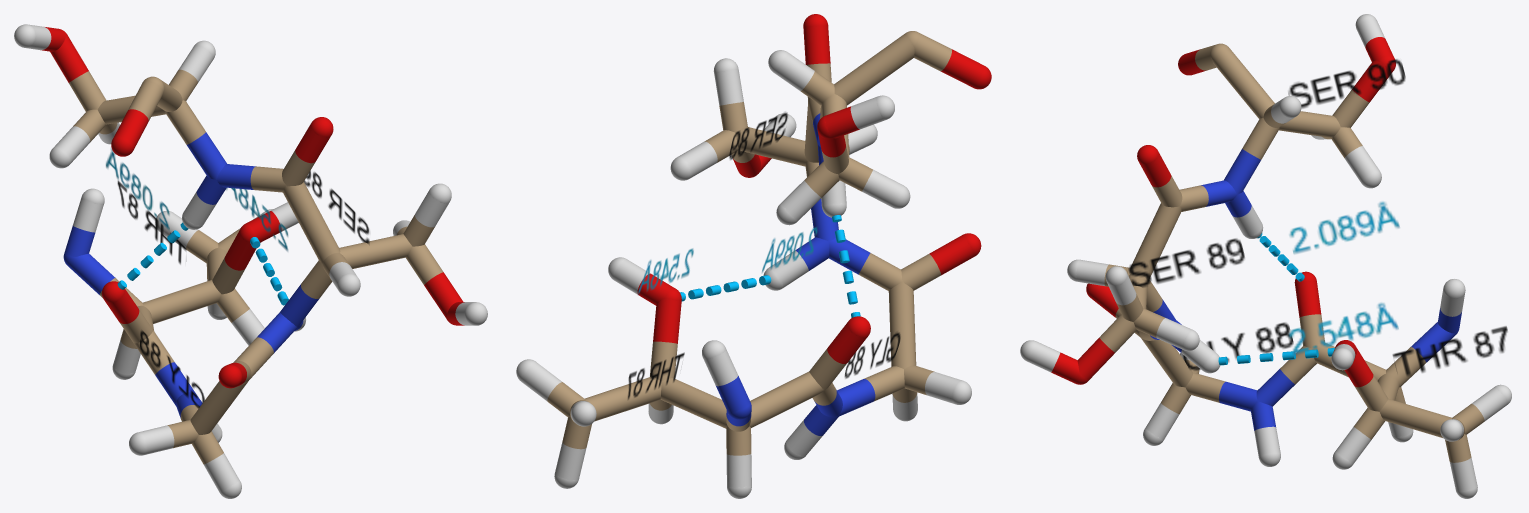
Rendered from 转角结构.glb.
3 views of the same model, side by side, from view 1: azimuth 30°, elevation 25°; view 2: azimuth 150°, elevation 25°; view 3: azimuth 270°, elevation 25° (orthographic). The views are drawn at different scales.
Parts seen in each view (by area): view 1: New_Node; view 2: New_Node; view 3: New_Node.
Part boxes in pixels (left/top/right/bottom): New_Node: left=14, top=24, right=487, bottom=498; New_Node: left=516, top=14, right=991, bottom=498; New_Node: left=1020, top=14, right=1511, bottom=498.
Size of the model in its own units: 6.08 by 7.72 by 8.87.
4 materials, 2 textured.
